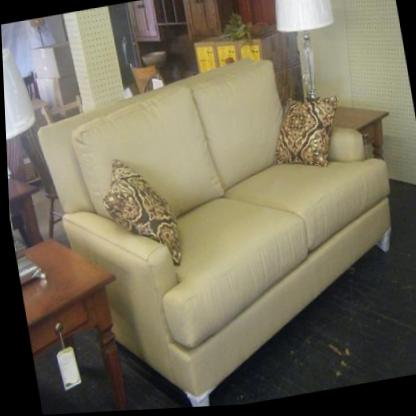Sofa: (29, 29, 416, 415)
Table: (11, 228, 136, 416)
